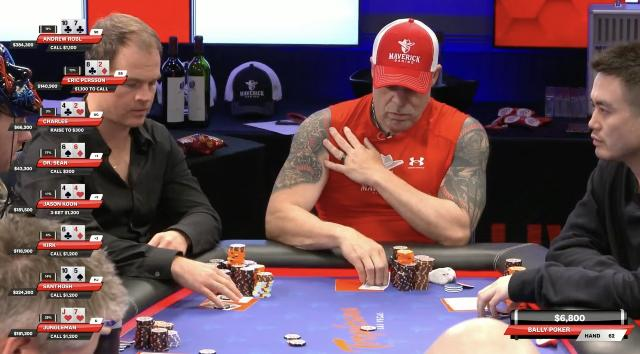10C: (61, 19, 73, 33)
10S: (61, 268, 73, 280)
2D: (98, 60, 110, 76)
2H: (74, 102, 85, 116)
4C: (61, 102, 73, 116)
4D: (72, 225, 86, 240)
4H: (73, 185, 85, 199)
4S: (60, 186, 74, 198)
5S: (74, 267, 85, 283)
6C: (61, 226, 73, 240)
6D: (72, 144, 84, 158)
6S: (60, 144, 74, 158)
7C: (73, 18, 85, 34)
7H: (74, 309, 85, 323)
8C: (85, 62, 96, 74)
JH: (62, 308, 72, 324)
